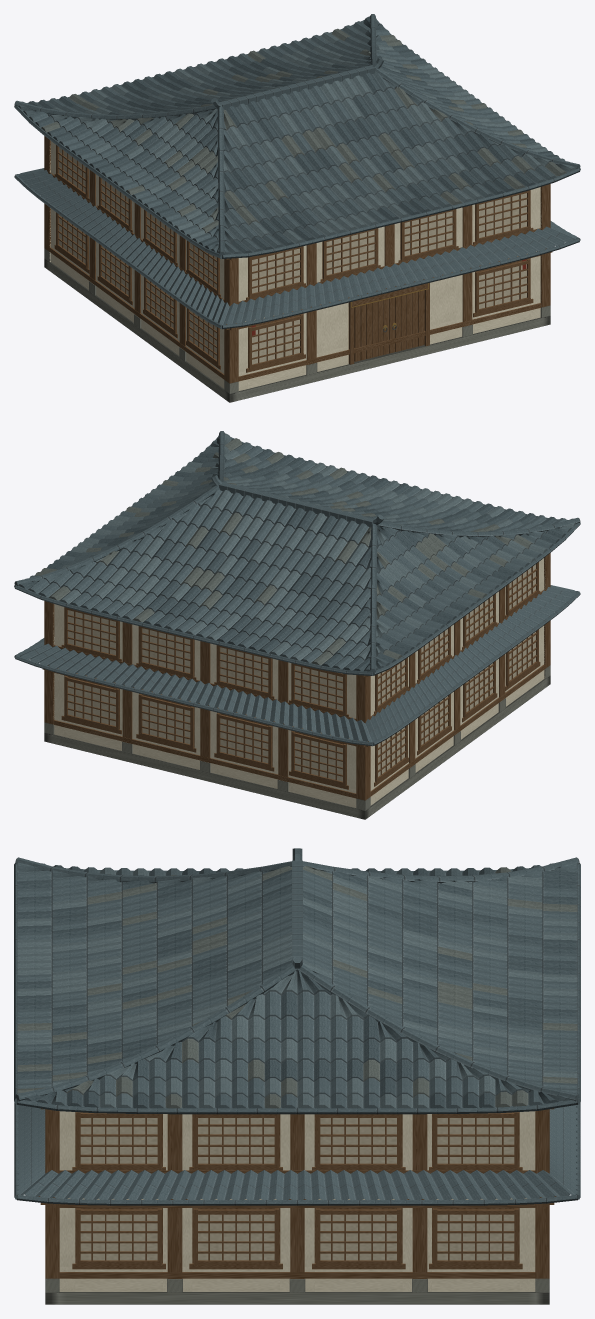
The model's file is building_hall.glb.
The picture shows the model from 3 angles, top to bottom: view 1: azimuth 30°, elevation 25°; view 2: azimuth 150°, elevation 25°; view 3: azimuth 270°, elevation 25°; orthographic projection. The views are drawn at different scales.
Visible parts, largest first — view 1: Hall_main_roof_rolled_tiles, Hall_main_roof_rolled_tiles.002, Hall_main_roof_rolled_tiles.001, Lower_eave_tiles, Warm_paper_panels, Solid_wall_0, Window_lattice, Hall_main_roof_rolled_tiles.003, Window_frames, Hall_foundation, Timber_posts, Horizontal_timber_bands (+14 smaller); view 2: Hall_main_roof_rolled_tiles, Hall_main_roof_rolled_tiles.002, Hall_main_roof_rolled_tiles.001, Warm_paper_panels, Lower_eave_tiles, Window_lattice, Window_frames, Solid_wall_1, Hall_main_roof_rolled_tiles.003, Hall_foundation, Timber_posts, Horizontal_timber_bands (+12 smaller); view 3: Hall_main_roof_rolled_tiles, Hall_main_roof_rolled_tiles.002, Hall_main_roof_rolled_tiles.001, Warm_paper_panels, Lower_eave_tiles, Solid_wall_3, Window_frames, Hall_main_roof_rolled_tiles.003, Window_lattice, Hall_main_roof_hip_caps, Hall_foundation, Hall_main_roof_eave_trim (+11 smaller).
Part boxes in pixels (<box>): Hall_main_roof_rolled_tiles: <box>19,18,565,253</box>; Hall_main_roof_rolled_tiles.002: <box>51,32,574,251</box>; Hall_main_roof_rolled_tiles.001: <box>28,16,568,252</box>; Lower_eave_tiles: <box>18,168,576,324</box>; Warm_paper_panels: <box>59,147,526,364</box>; Solid_wall_0: <box>238,187,540,390</box>; Window_lattice: <box>58,149,527,363</box>; Hall_main_roof_rolled_tiles.003: <box>43,28,566,232</box>; Window_frames: <box>56,145,530,369</box>; Hall_foundation: <box>44,259,550,402</box>; Timber_posts: <box>89,170,472,364</box>; Horizontal_timber_bands: <box>49,172,541,381</box>; Hall_main_roof_rolled_tiles: <box>28,442,573,670</box>; Hall_main_roof_rolled_tiles.002: <box>59,433,575,660</box>; Hall_main_roof_rolled_tiles.001: <box>20,435,564,670</box>; Warm_paper_panels: <box>68,564,535,781</box>; Lower_eave_tiles: <box>18,585,576,741</box>; Window_lattice: <box>67,566,536,780</box>; Window_frames: <box>64,562,538,786</box>; Solid_wall_1: <box>54,604,356,807</box>; Hall_main_roof_rolled_tiles.003: <box>35,438,531,664</box>; Hall_foundation: <box>44,676,550,819</box>; Timber_posts: <box>122,587,505,781</box>; Horizontal_timber_bands: <box>53,589,545,798</box>; Hall_main_roof_rolled_tiles: <box>17,862,577,1108</box>; Hall_main_roof_rolled_tiles.002: <box>17,867,577,1108</box>; Hall_main_roof_rolled_tiles.001: <box>17,865,577,1107</box>; Warm_paper_panels: <box>80,1118,514,1260</box>; Lower_eave_tiles: <box>17,1105,577,1200</box>; Solid_wall_3: <box>59,1111,535,1291</box>; Window_frames: <box>76,1112,518,1265</box>; Hall_main_roof_rolled_tiles.003: <box>17,866,577,1108</box>; Window_lattice: <box>80,1118,514,1260</box>; Hall_main_roof_hip_caps: <box>15,857,579,1101</box>; Hall_foundation: <box>45,1292,549,1304</box>; Hall_main_roof_eave_trim: <box>14,863,580,1114</box>.
Size of the model in its own units: 15.77 by 9.06 by 15.74.
11 materials, 11 textured.
